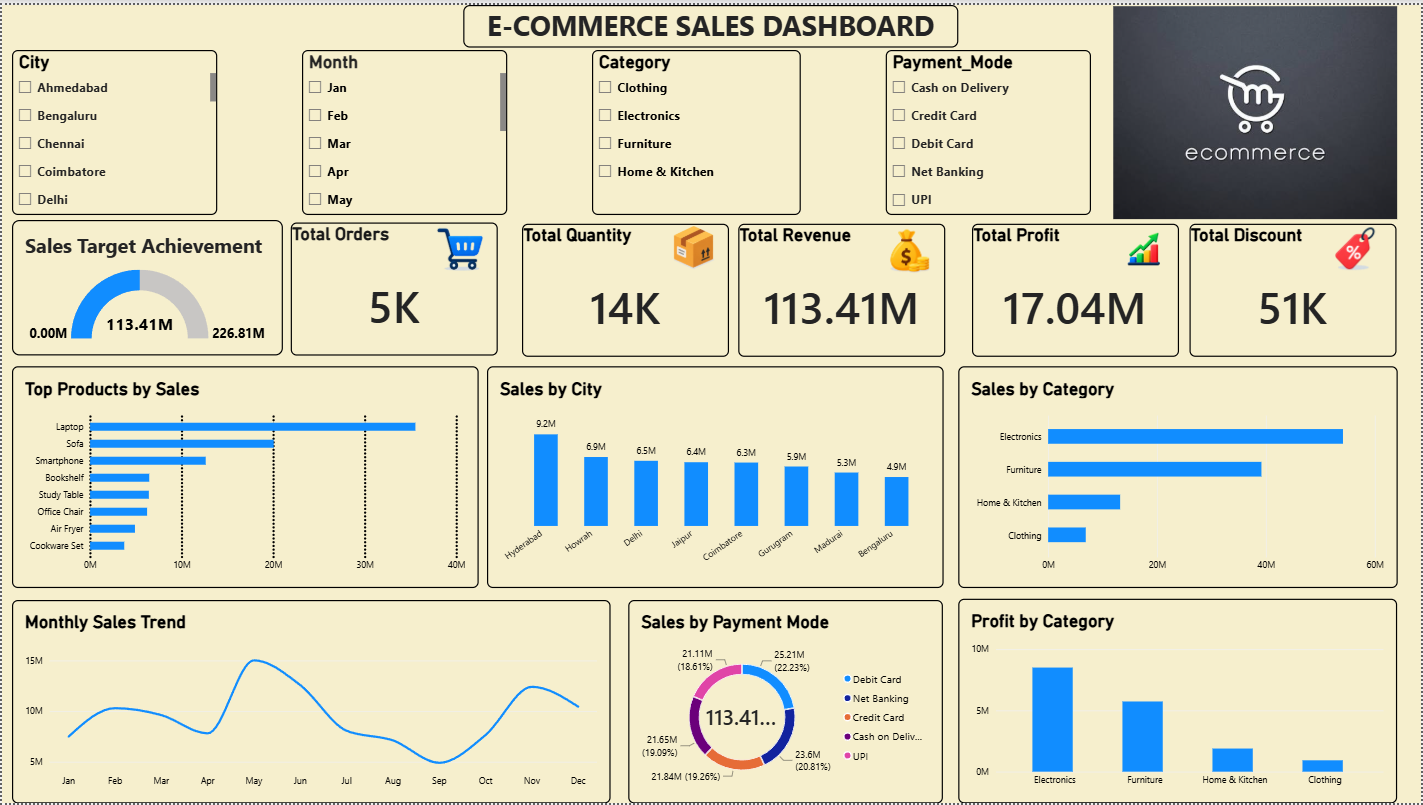

This screenshot's page, from the dashboard's own definition file:
{"tool":"powerbi","page":{"name":"Page 1","canvas":[1920,1080],"ordinal":0},"visuals":[{"type":"cardVisual","title":"Total Revenue","fields":{"Data":["Sum(ecommerce ecommerce.Sales)"]},"box":[995.9,296.5,280,180],"z":0},{"type":"cardVisual","title":"Total Quantity","fields":{"Data":["Sum(ecommerce ecommerce.Quantity)"]},"box":[702.9,296.5,280,180],"z":1000},{"type":"cardVisual","title":"Total Profit","fields":{"Data":["Sum(ecommerce ecommerce.Profit)"]},"box":[1311.6,296.5,279.7,179.7],"z":2000},{"type":"cardVisual","title":"Total Discount","fields":{"Data":["Sum(ecommerce ecommerce.Discount)"]},"box":[1606.4,296.5,279.7,179.7],"z":3000},{"type":"cardVisual","title":"  Total Orders","fields":{"Data":["Count(ecommerce ecommerce.Order_ID)"]},"box":[390.7,294.8,280,180],"z":4000},{"type":"lineChart","title":"Monthly Sales Trend","fields":{"Y":["Sum(ecommerce ecommerce.Sales)"],"Category":["ecommerce ecommerce.Month_Display"]},"box":[14,804.1,809.3,275.6],"z":5000},{"type":"clusteredBarChart","title":"Sales by Category","fields":{"Y":["Sum(ecommerce ecommerce.Sales)"],"Category":["ecommerce ecommerce.Category"]},"box":[1294,488,594,300],"z":6000},{"type":"clusteredBarChart","title":"Top Products by Sales","fields":{"Category":["ecommerce ecommerce.Product"],"Y":["Sum(ecommerce ecommerce.Sales)"]},"box":[14,488.4,631.4,300],"z":7000},{"type":"clusteredColumnChart","title":"Sales by City","fields":{"Category":["ecommerce ecommerce.City"],"Y":["Sum(ecommerce ecommerce.Sales)"]},"box":[655.8,488.4,617.4,300],"z":8000},{"type":"donutChart","title":"Sales by Payment Mode","fields":{"Category":["ecommerce ecommerce.Payment_Mode"],"Y":["Sum(ecommerce ecommerce.Sales)"]},"box":[847.7,804.1,425.6,275.6],"z":9000},{"type":"clusteredColumnChart","title":"Profit by Category","fields":{"Category":["ecommerce ecommerce.Category"],"Y":["Sum(ecommerce ecommerce.Profit)"]},"box":[1293.9,803.5,593.6,276.9],"z":10000},{"type":"slicer","fields":{"Values":["ecommerce ecommerce.Category"]},"box":[797.7,61,282.6,223.3],"z":11000},{"type":"slicer","fields":{"Values":["ecommerce ecommerce.City"]},"box":[14,61,277.3,223.3],"z":12000},{"type":"slicer","fields":{"Values":["ecommerce ecommerce.Payment_Mode"]},"box":[1194.8,61,277.3,223.3],"z":13000},{"type":"textbox","box":[624.4,0,669.8,57.6],"z":14000},{"type":"slicer","fields":{"Values":["ecommerce ecommerce.Month_Display"]},"box":[405.8,61,277.3,223.3],"z":15000},{"type":"image","box":[577.3,294.8,94.7,67.9],"z":16000},{"type":"image","box":[889.5,291.3,94,67],"z":17000},{"type":"image","box":[1179.1,296.5,94,67.9],"z":18000},{"type":"image","box":[1794.8,294.8,94,67],"z":19000},{"type":"image","box":[1496.5,298.3,94,67],"z":20000},{"type":"gauge","title":"Sales Target Achievement","fields":{"Y":["Sum(ecommerce ecommerce.Sales)"]},"box":[14,291.3,366.3,183.1],"z":20001},{"type":"image","box":[1503.5,0,383.7,291.3],"z":20002}]}

Visuals, with their boxes in screenshot pixels (x1, y1, x2, y2), scaled from the page's 1920x1080 canvas onto the 1423x805 screenshot:
"Total Revenue" cardVisual: rect(738, 221, 946, 355)
"Total Quantity" cardVisual: rect(521, 221, 728, 355)
"Total Profit" cardVisual: rect(972, 221, 1179, 355)
"Total Discount" cardVisual: rect(1191, 221, 1398, 355)
"  Total Orders" cardVisual: rect(290, 220, 497, 354)
"Monthly Sales Trend" lineChart: rect(10, 599, 610, 804)
"Sales by Category" clusteredBarChart: rect(959, 364, 1399, 587)
"Top Products by Sales" clusteredBarChart: rect(10, 364, 478, 588)
"Sales by City" clusteredColumnChart: rect(486, 364, 944, 588)
"Sales by Payment Mode" donutChart: rect(628, 599, 944, 804)
"Profit by Category" clusteredColumnChart: rect(959, 599, 1399, 804)
slicer - ecommerce ecommerce.Category: rect(591, 45, 801, 212)
slicer - ecommerce ecommerce.City: rect(10, 45, 216, 212)
slicer - ecommerce ecommerce.Payment_Mode: rect(886, 45, 1091, 212)
textbox: rect(463, 0, 959, 43)
slicer - ecommerce ecommerce.Month_Display: rect(301, 45, 506, 212)
image: rect(428, 220, 498, 270)
image: rect(659, 217, 729, 267)
image: rect(874, 221, 944, 272)
image: rect(1330, 220, 1400, 270)
image: rect(1109, 222, 1179, 272)
"Sales Target Achievement" gauge: rect(10, 217, 282, 354)
image: rect(1114, 0, 1399, 217)
